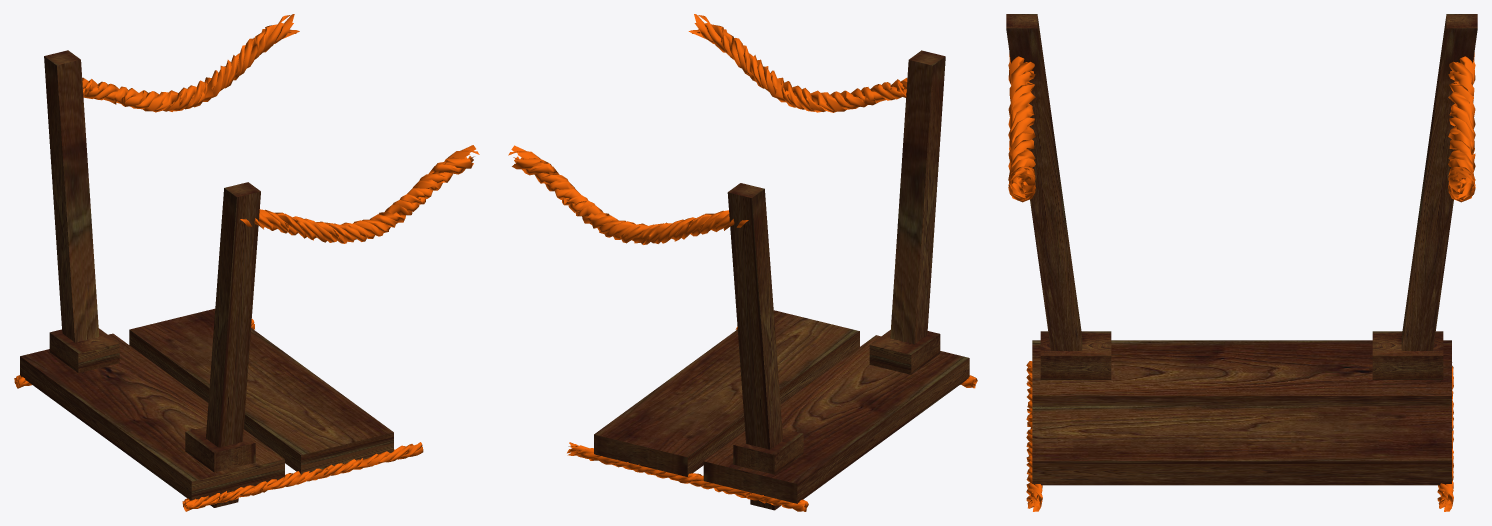
Rendered from bridge.fbx.
3 renders of one model, left to right at view 1: azimuth 30°, elevation 25°; view 2: azimuth 150°, elevation 25°; view 3: azimuth 270°, elevation 25°, orthographic. The views are drawn at different scales.
Visible parts, largest first — view 1: Box270, Box267, Box269, Box276, Cylinder064, Cylinder057, Cylinder065, Box268, Box275; view 2: Box270, Box267, Box276, Box269, Cylinder057, Cylinder064, Box275, Cylinder056, Box268; view 3: Box270, Box267, Box276, Box269, Cylinder064, Cylinder057, Box268, Box275, Cylinder065, Cylinder056.
Part boxes in pixels (x1,y1,x2,y2): Box270: (129,308,393,474); Box267: (20,333,284,500); Box269: (44,50,99,342); Box276: (206,182,260,507); Cylinder064: (240,145,479,243); Cylinder057: (82,14,299,112); Cylinder065: (182,442,423,511); Box268: (49,328,119,372); Box275: (185,426,255,472); Box270: (594,310,859,476); Box267: (703,335,969,503); Box276: (890,50,945,344); Box269: (727,183,783,510); Cylinder057: (508,145,748,244); Cylinder064: (688,14,907,112); Box275: (869,330,940,374); Cylinder056: (567,442,808,511); Box268: (733,428,803,474); Box270: (1032,405,1451,485); Box267: (1032,340,1451,405); Box276: (1006,14,1082,350); Box269: (1401,14,1477,350); Cylinder064: (1008,52,1035,202); Cylinder057: (1448,52,1475,202); Box268: (1372,331,1443,379); Box275: (1040,331,1111,379); Cylinder065: (1026,361,1042,511); Cylinder056: (1437,362,1453,511).
Bounding box in the file's own units: 59.35 × 65.09 × 69.52.
2 materials, 1 textured.
